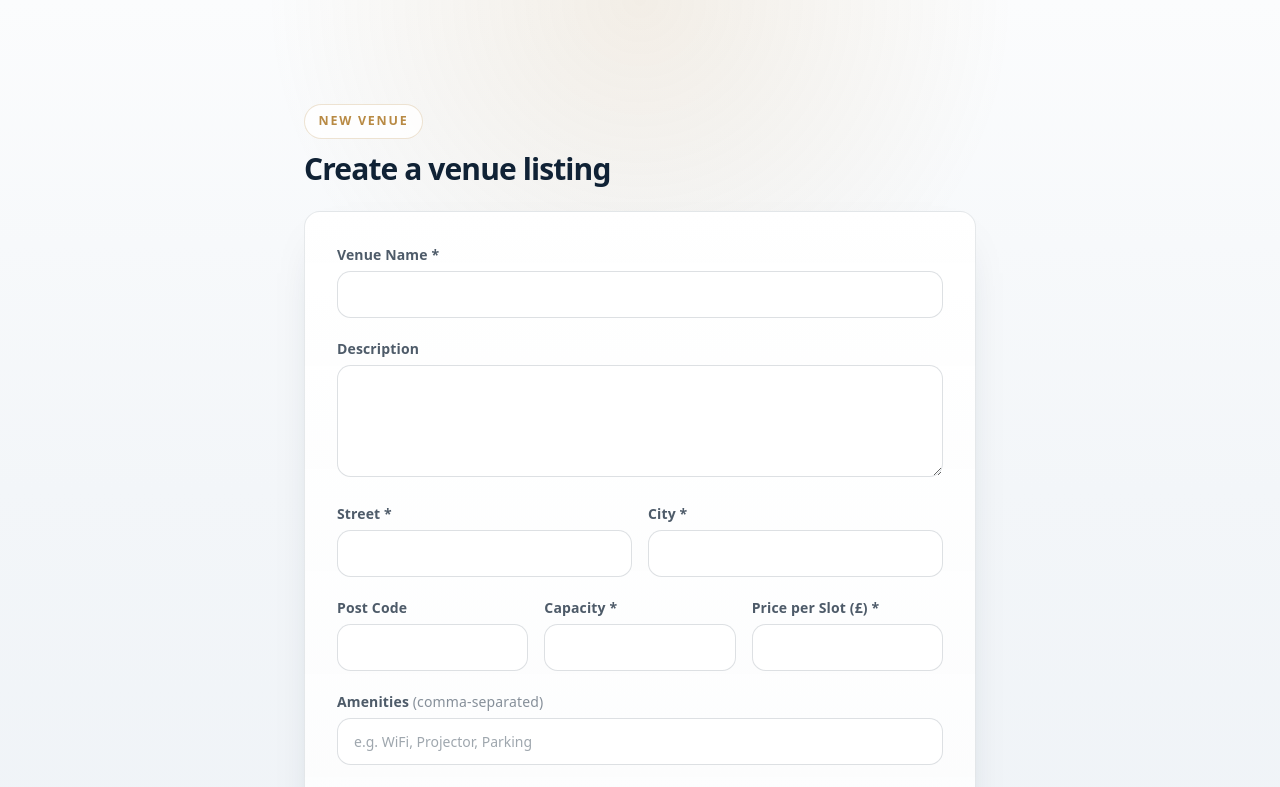
Test case: VenueFormPage › create mode (no venueSlug) › shows the mutation's error message on failure
This screenshot has width=1280, height=787.
In the field labelled "Venue Name *": (640, 295) [337,271,943,318], type "X"
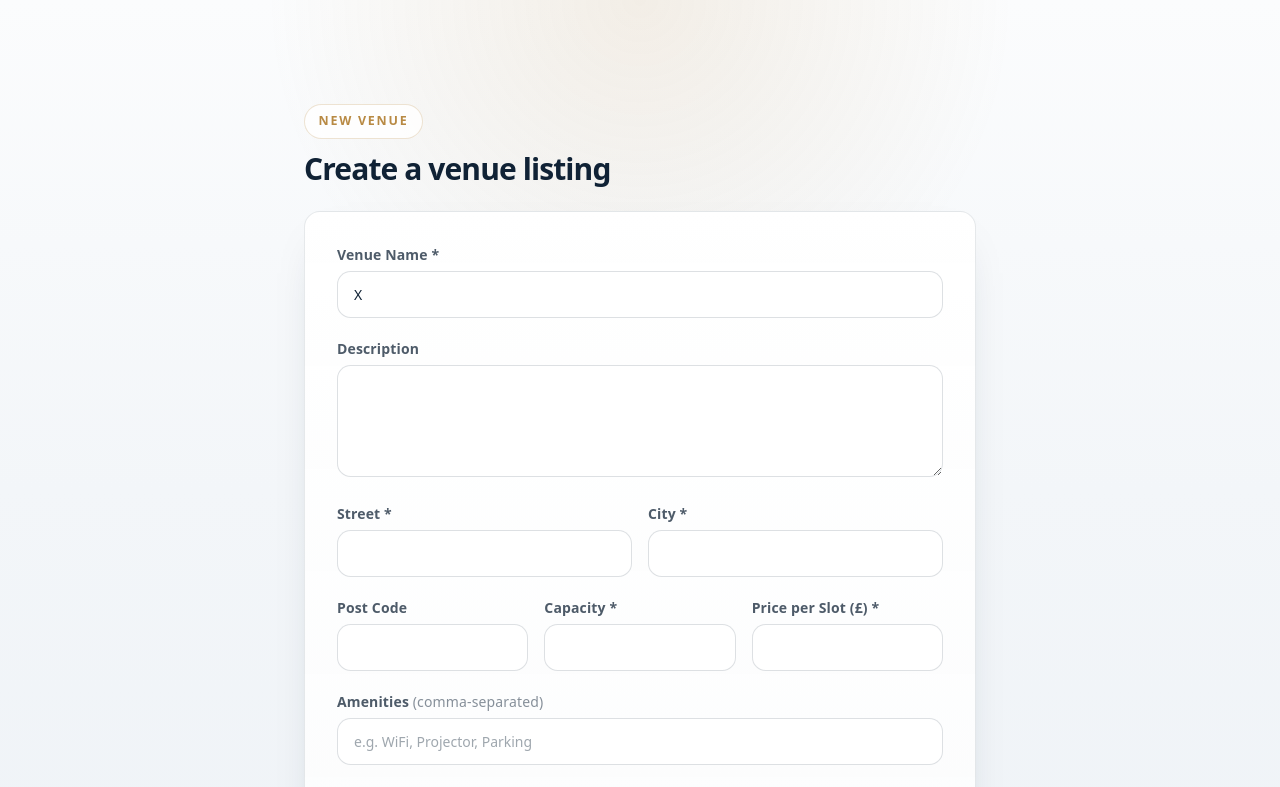
In the field labelled "Street *": (484, 554) [337,530,632,577], type "X"
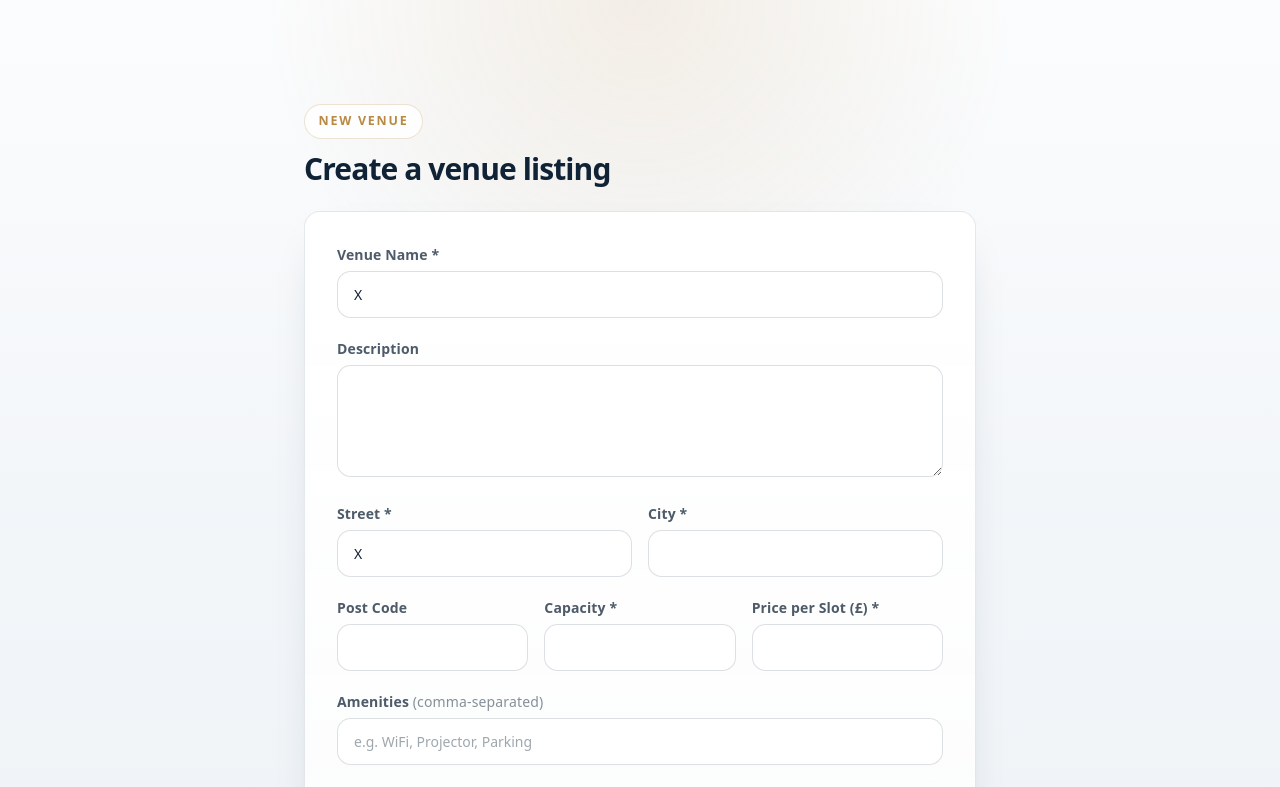
In the field labelled "City *": (796, 554) [648,530,943,577], type "X"
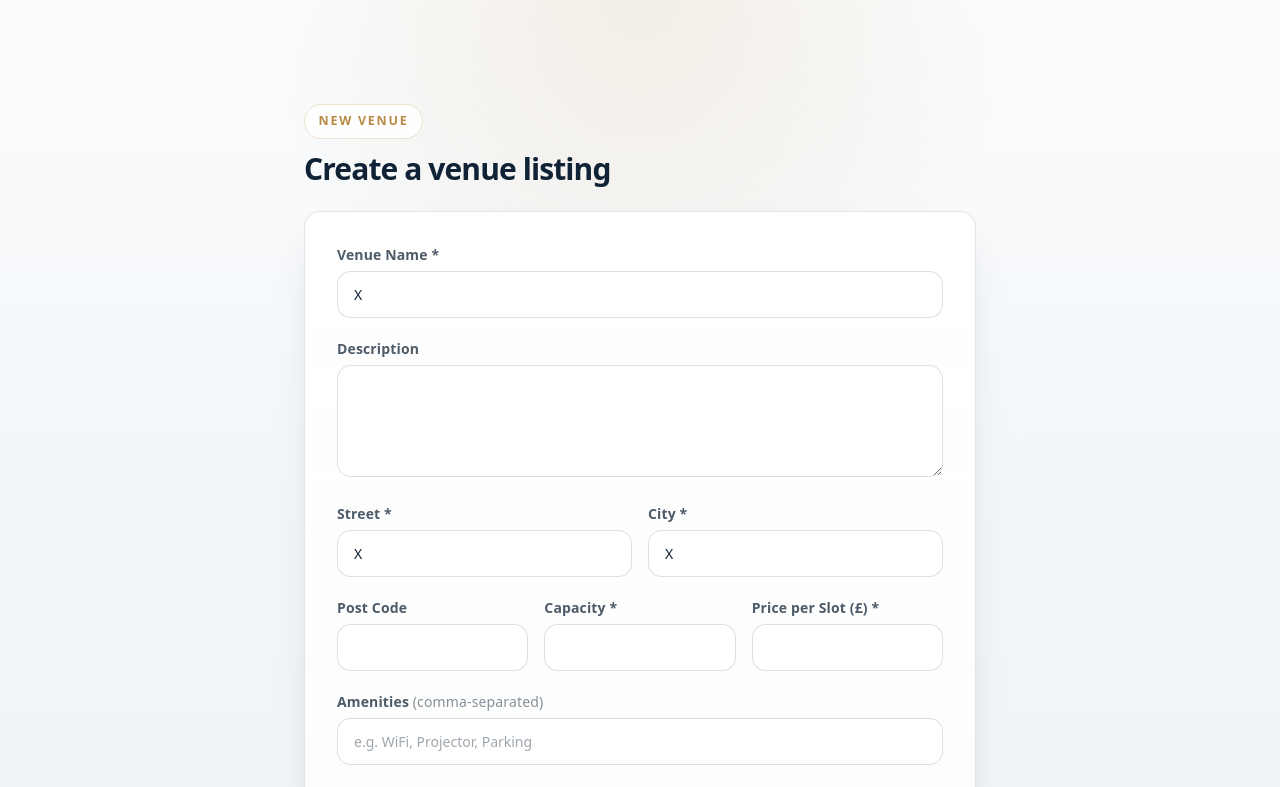
In the number field labelled "Capacity *": (640, 648) [544,624,736,671], type "1"
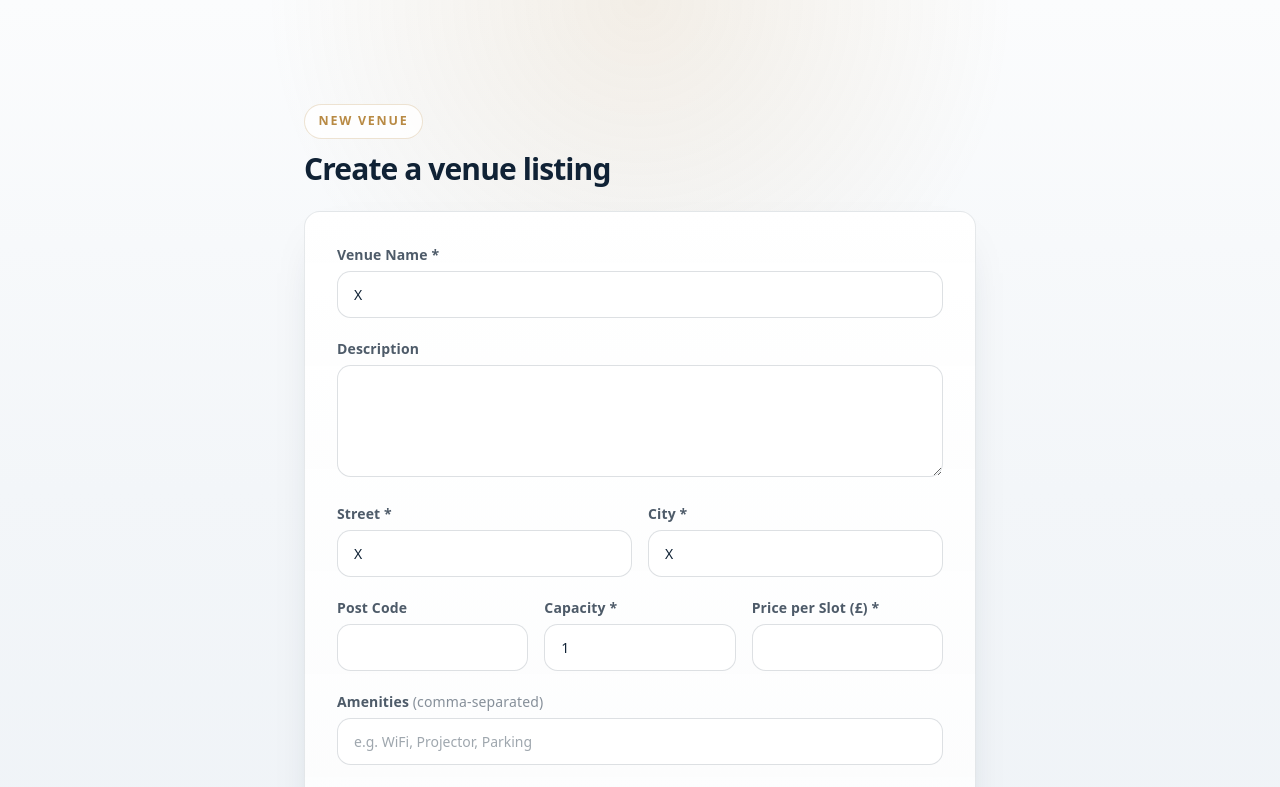
In the number field labelled "Price per Slot (£) *": (847, 648) [752,624,943,671], type "1"
(page scrolled)
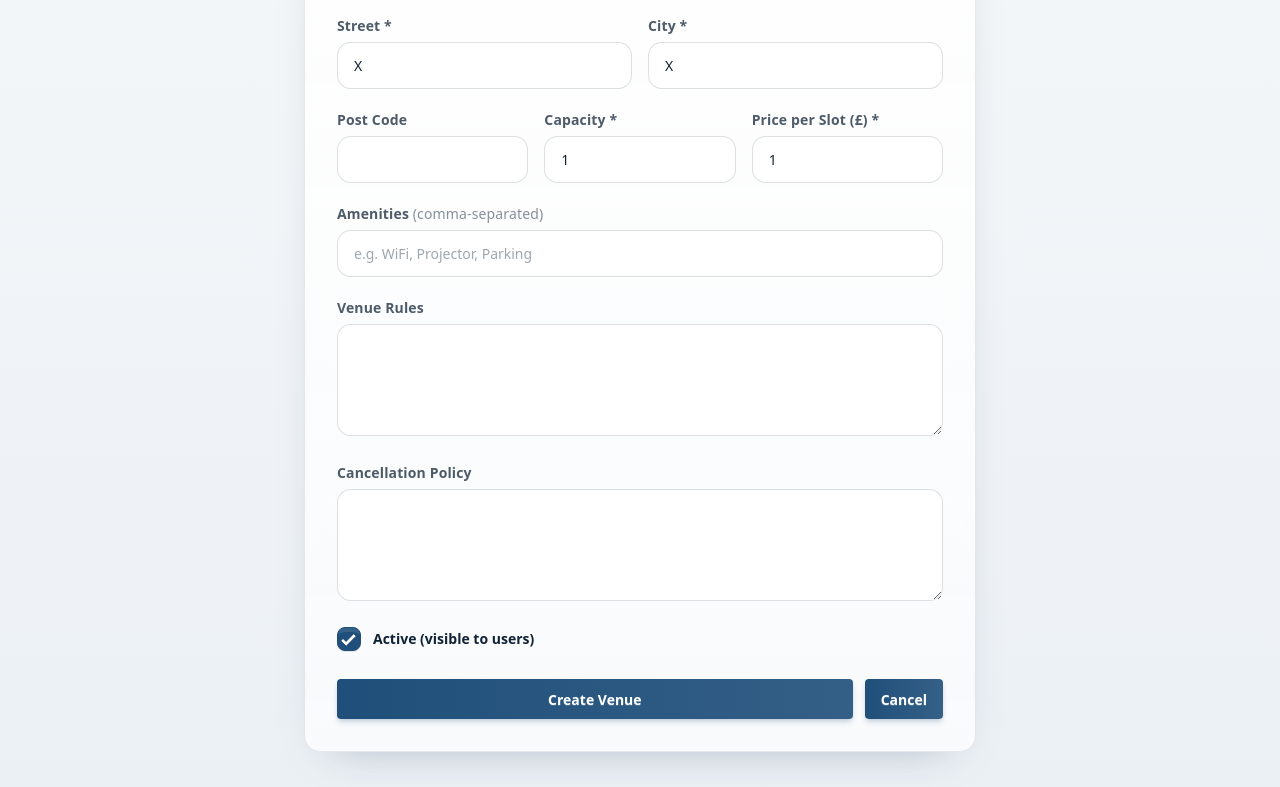
Click the button "Create Venue": (595, 699) [337,679,853,719]
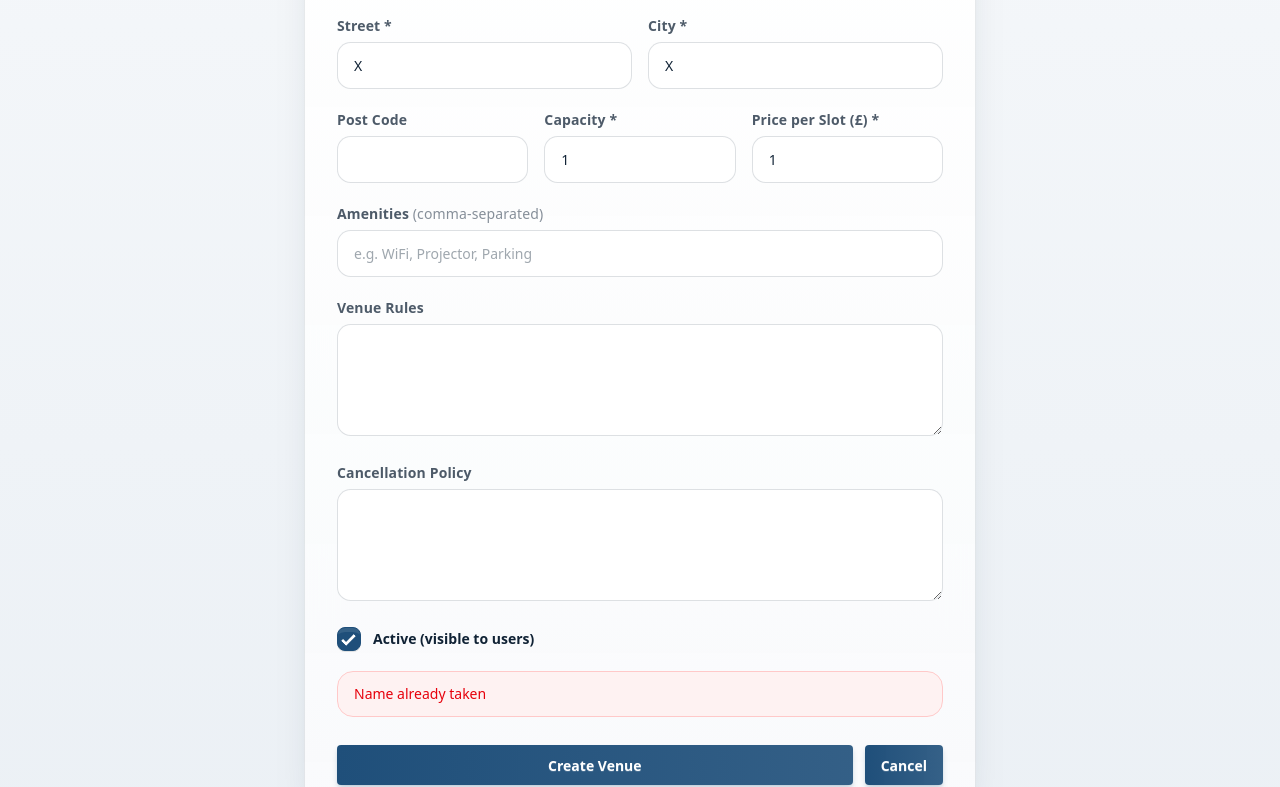
Expected: the text "Name already taken" is shown, [337,671,943,717]
